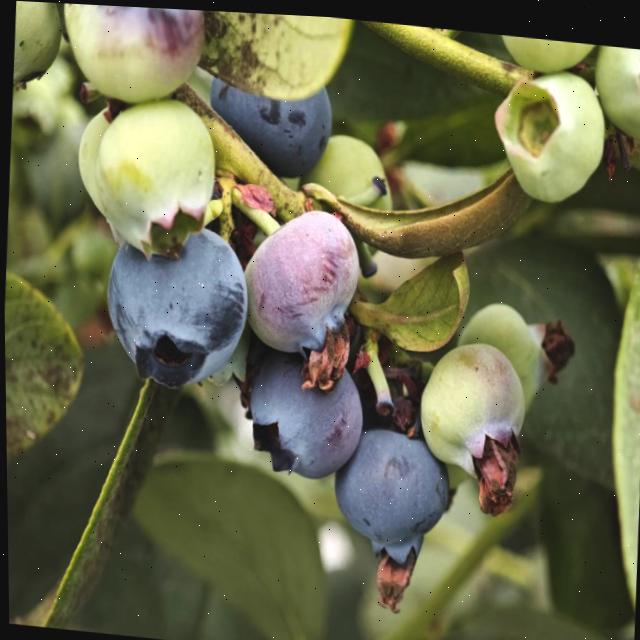RipeBlueBerry: (98, 214, 253, 396), (325, 418, 454, 569), (243, 344, 364, 481), (205, 54, 336, 179)
Semi-RipeBlueBerry: (237, 197, 365, 364)
UnripeBlueBerry: (88, 89, 221, 264), (414, 328, 531, 480), (488, 57, 610, 202), (56, 2, 205, 107)
